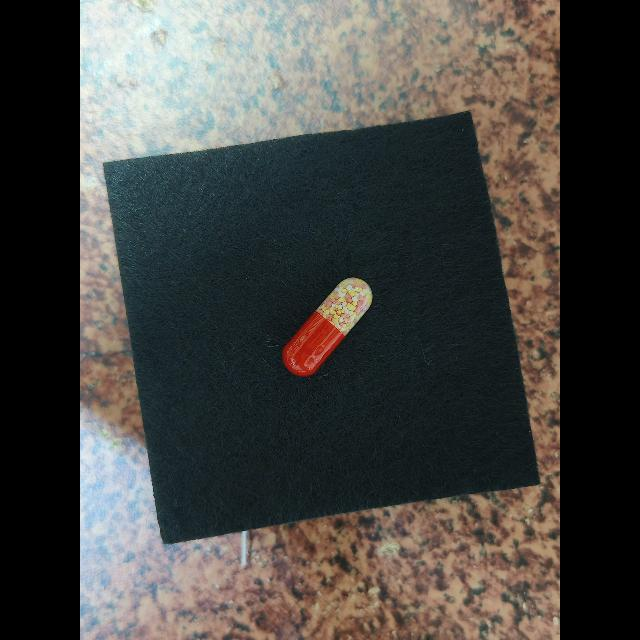Intact Capsule: (282, 277, 373, 376)
